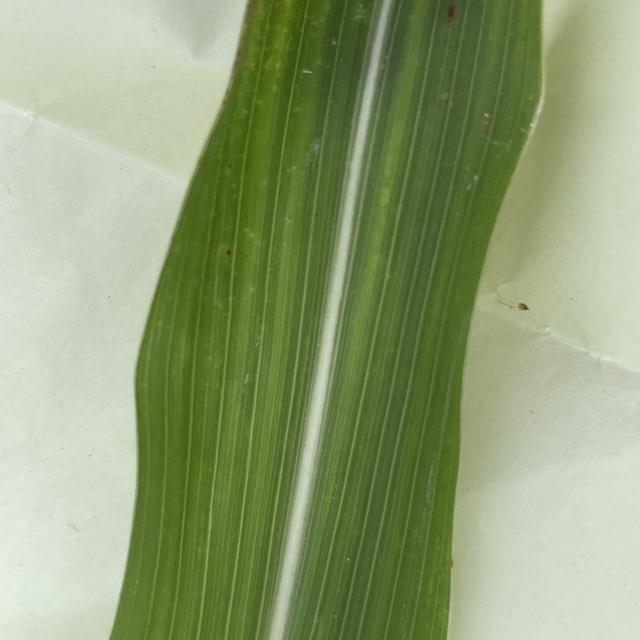millet_healthy: (110, 1, 546, 640)
